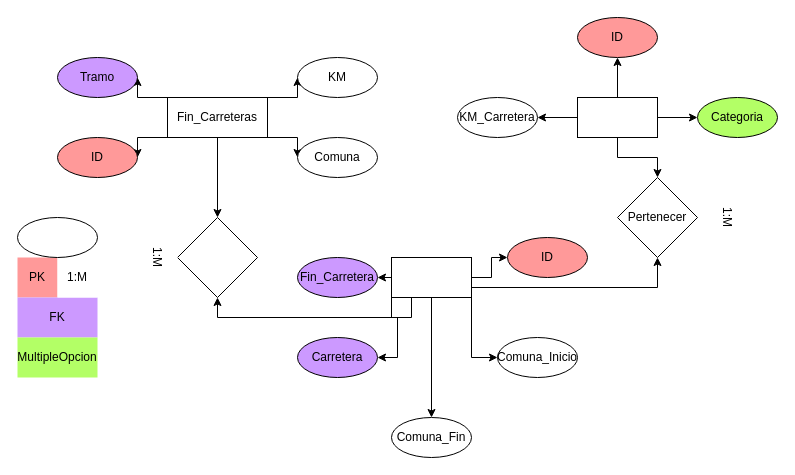
Image size: 795x475. Some labels were removed from this diagram. The shapes that lost their labels are listed below. From the top down, each one's box as (x1, y1, x2, y2) in pixels, then its label:
(576, 96, 658, 138): Carreteras
(176, 216, 258, 298): Finaliza
(390, 256, 472, 298): Tramos
